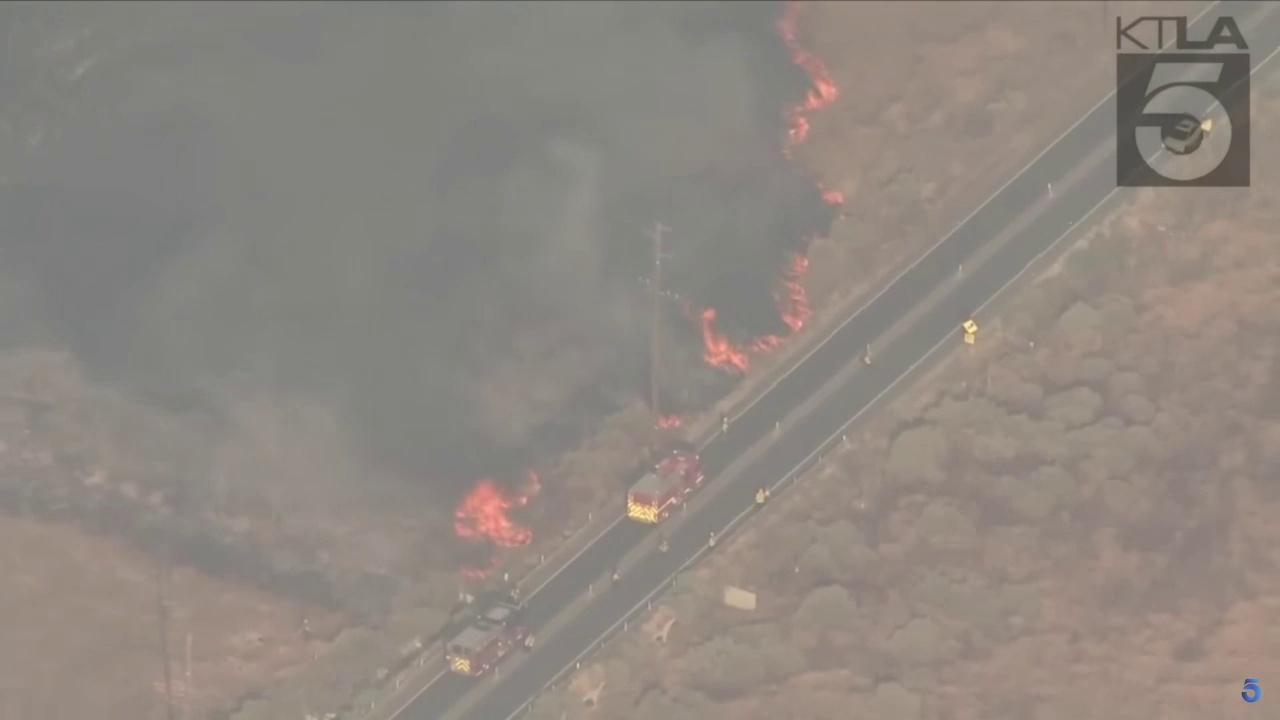fire: (699, 254, 811, 376), (450, 468, 545, 586), (774, 0, 842, 164), (652, 414, 686, 432), (817, 188, 847, 204)
smoke: (0, 0, 813, 496)
